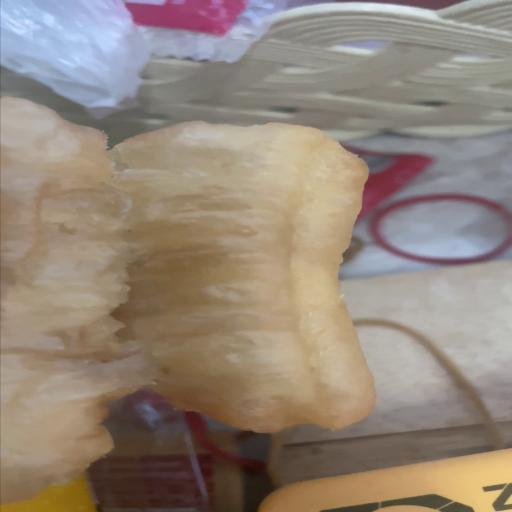street_golden_defect: (1, 118, 374, 438)
